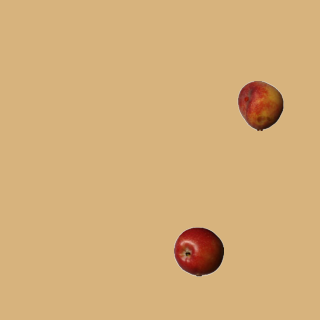Apple Braeburn: (173, 226, 223, 276)
Peach: (235, 80, 285, 130)
